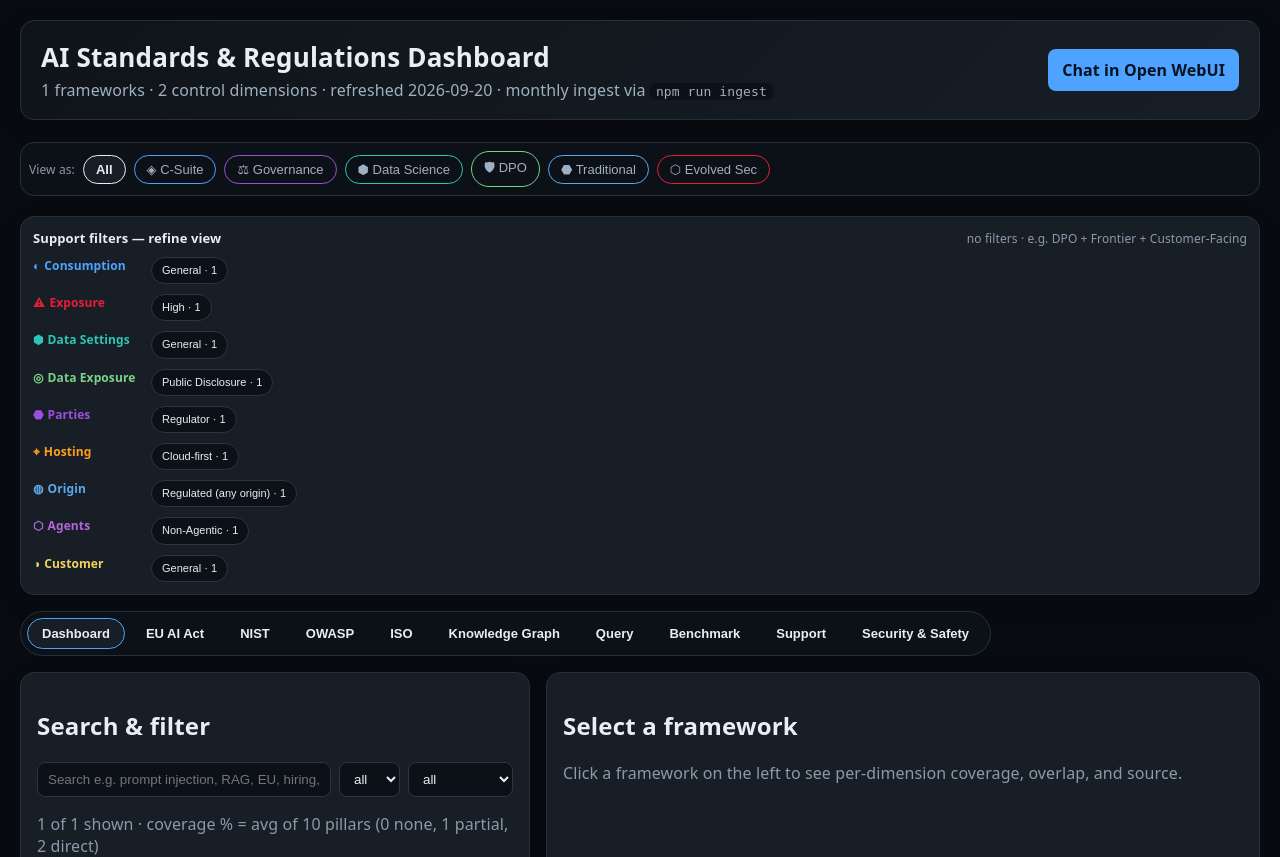
Test case: App › switches to the light Query view synchronously
Click the tab "Query": (615, 633) [581,618,648,649]
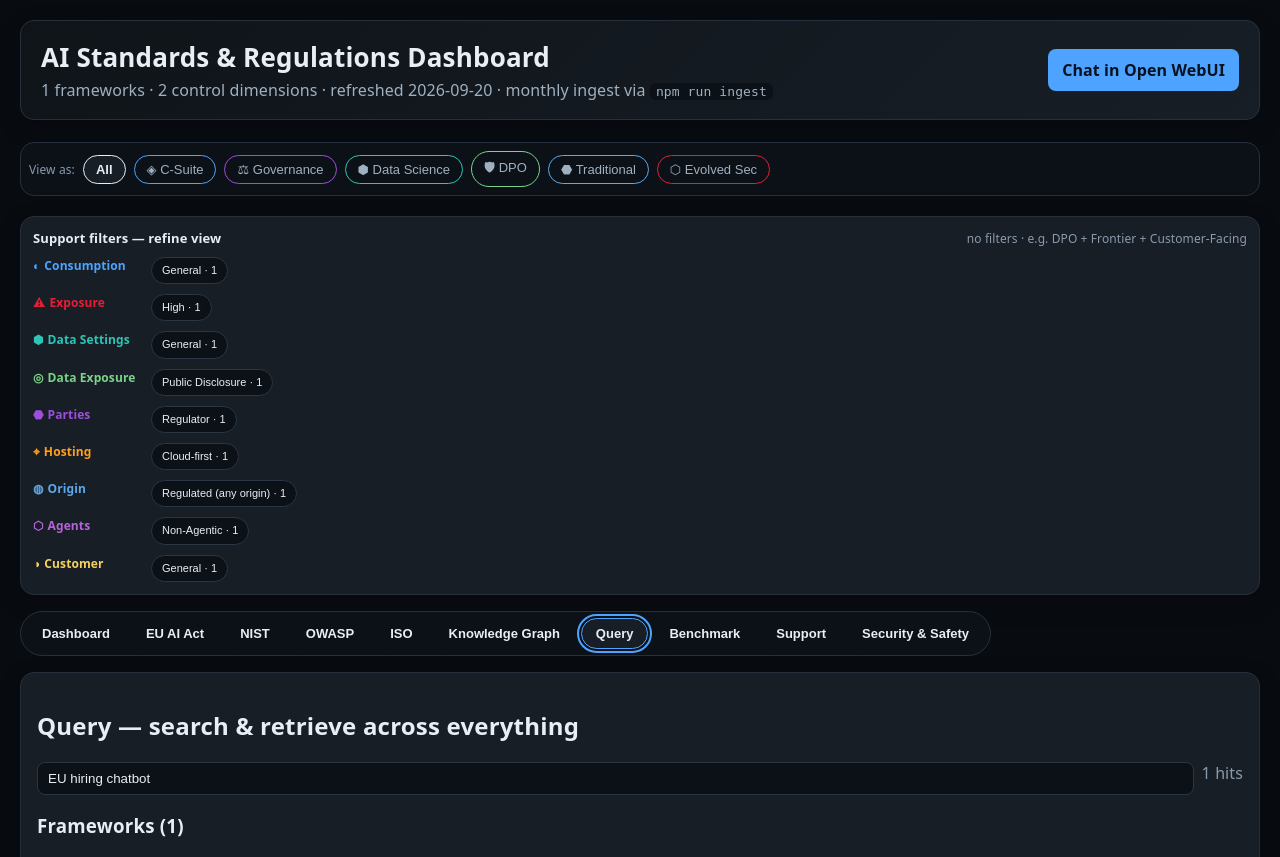
Expected: the field named "query all" is shown, [37,762,1194,794]
